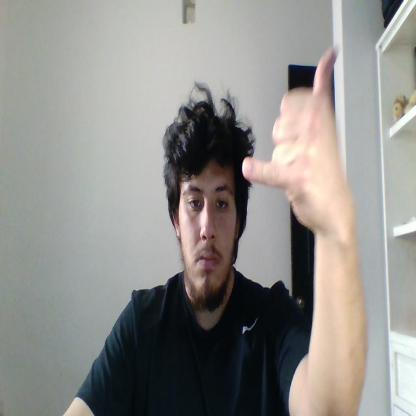Y: (242, 45, 350, 232)
